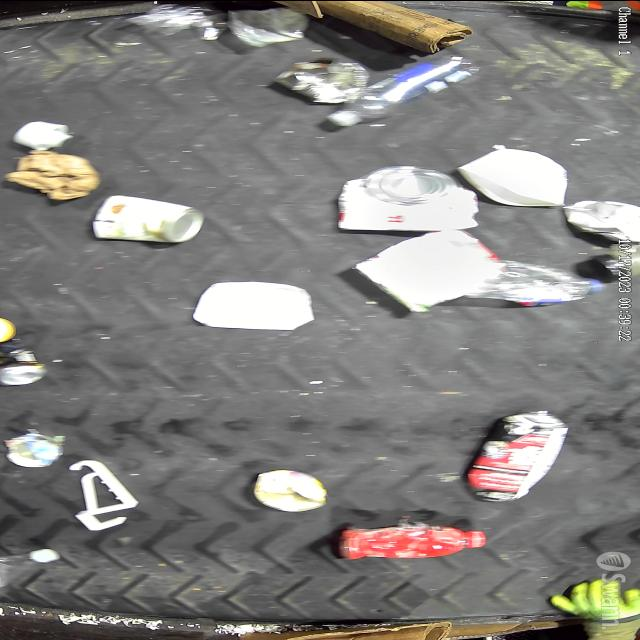can: (468, 409, 570, 502), (92, 194, 204, 244), (277, 59, 367, 102), (250, 468, 328, 512), (366, 165, 456, 203), (2, 430, 66, 467), (0, 345, 49, 385)
plastic_bottle: (332, 55, 482, 126), (468, 260, 604, 304), (0, 548, 62, 590)
